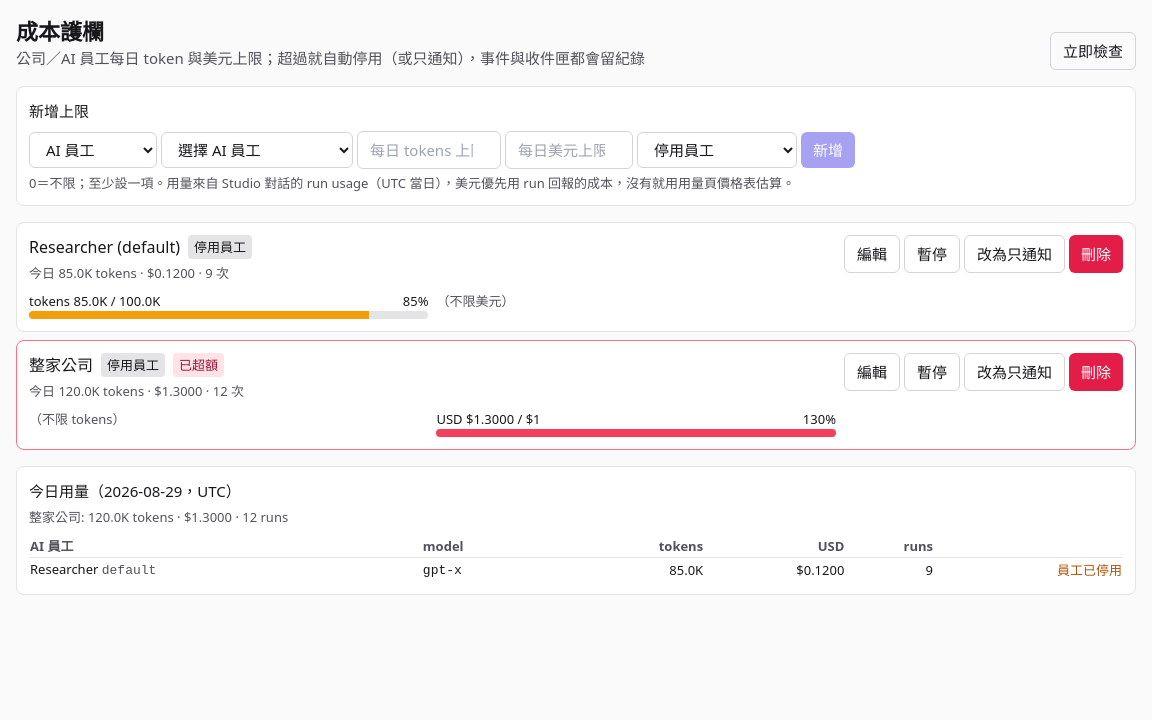
Test case: LimitsPage › 新增上限：選員工＋tokens → POST /limits
Check: the list item with test id "limit-ul_1" is shown, box [16,222,1136,332]
Check: the button "新增" is disabled, box [801,132,855,168]
Select "Writer (writer)" in the dropdown named "AI 員工" at (257, 150), box [161,132,353,168]
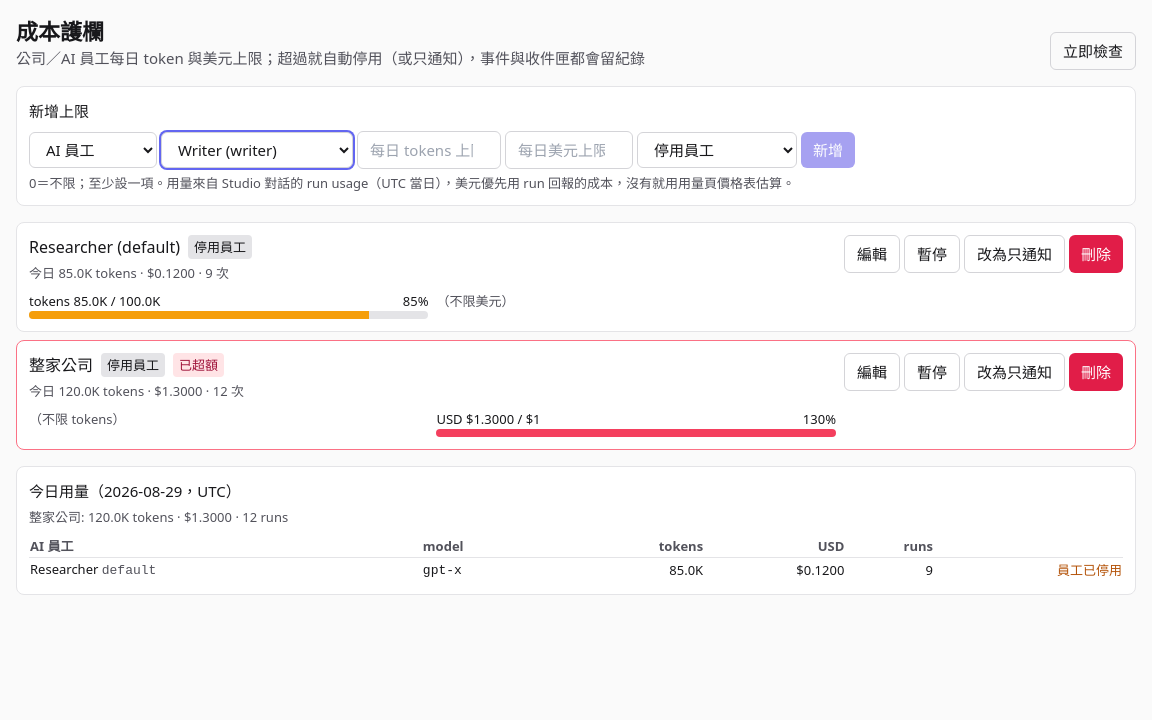
Type "50000" into the number field labelled "每日 tokens 上限".
click(429, 150); type("50000")  # box [357,131,501,169]
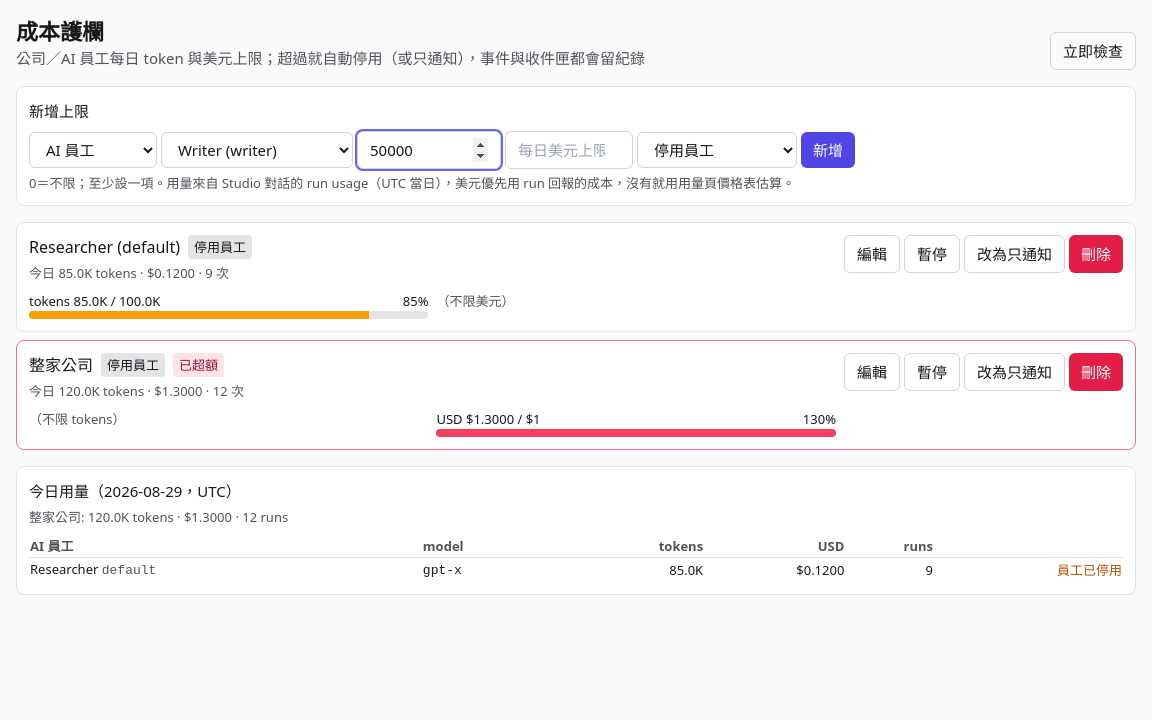
Check: the button "新增" is enabled
Click the button "新增".
click(828, 150)  # box [801,132,855,168]
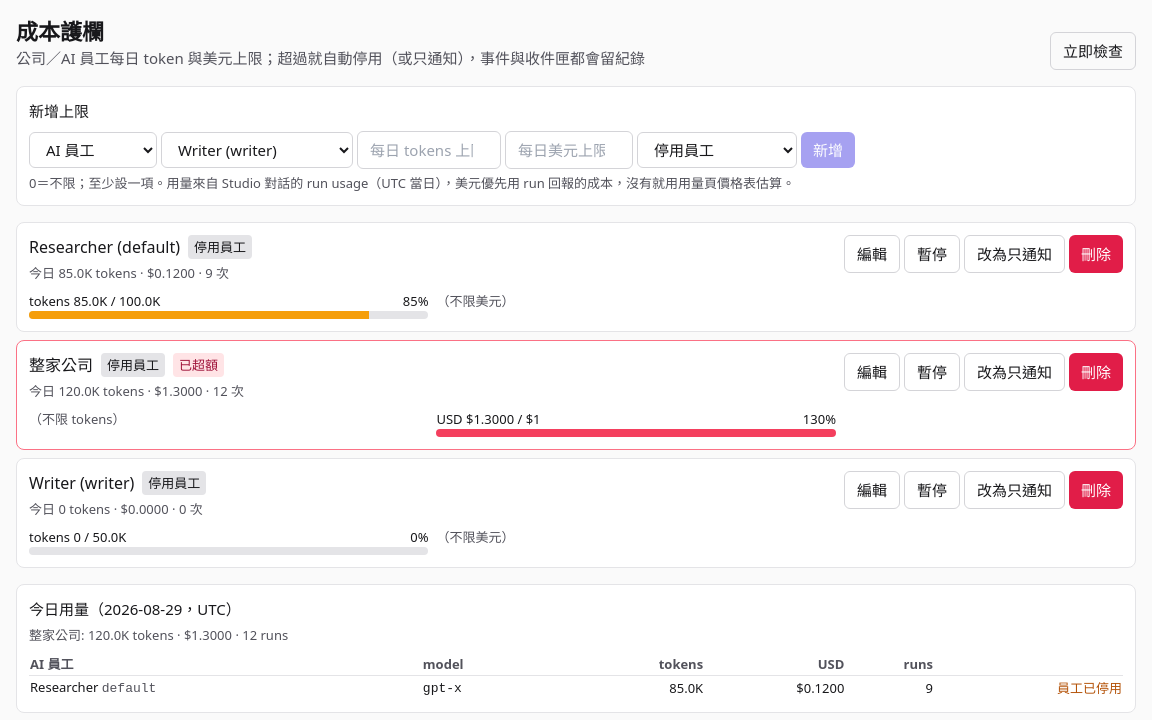
Check: the text "Writer (writer)" is shown, box [29,471,134,495]
